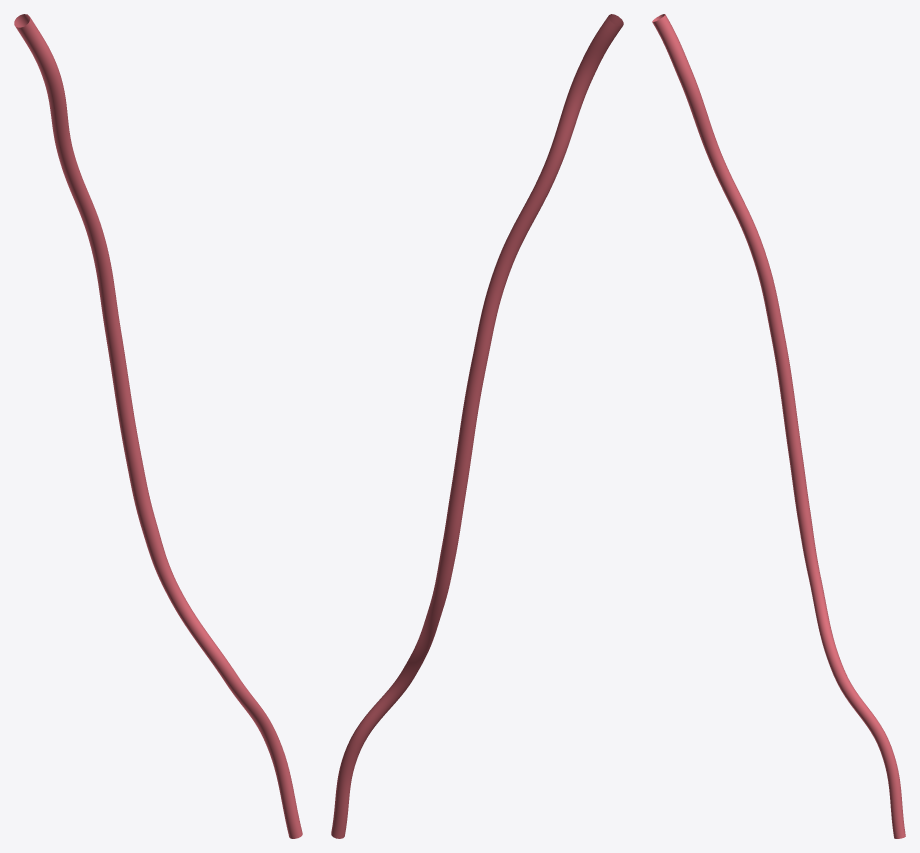
The picture shows the model from 3 angles, left to right: view 1: azimuth 30°, elevation 25°; view 2: azimuth 150°, elevation 25°; view 3: azimuth 330°, elevation 25°; orthographic projection. The views are drawn at different scales.
Visible parts, largest first — view 1: ZA_32b3f206ae5cc00a; view 2: ZA_32b3f206ae5cc00a; view 3: ZA_32b3f206ae5cc00a.
Part boxes in pixels (x1,y1,x2,y2): ZA_32b3f206ae5cc00a: (14,14,302,838); ZA_32b3f206ae5cc00a: (331,14,623,838); ZA_32b3f206ae5cc00a: (652,14,905,838).
Bounding box in the file's own units: 0.0939 × 0.2764 × 0.0182.
